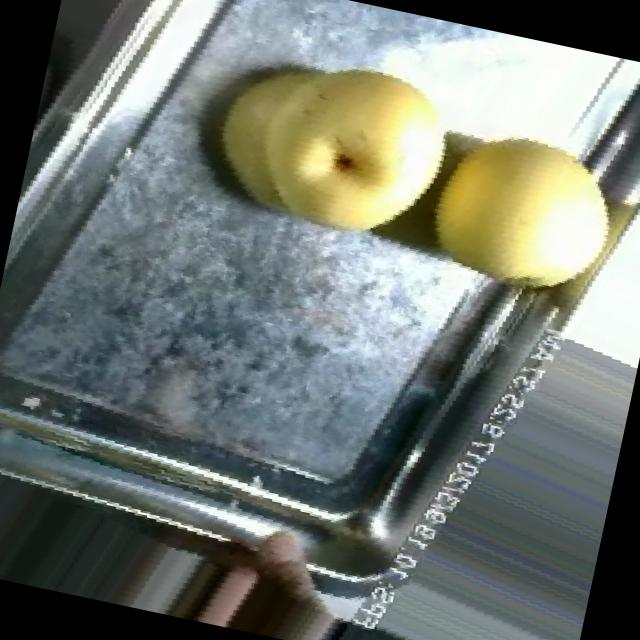Fruit: (169, 0, 485, 285), (393, 91, 640, 333)
